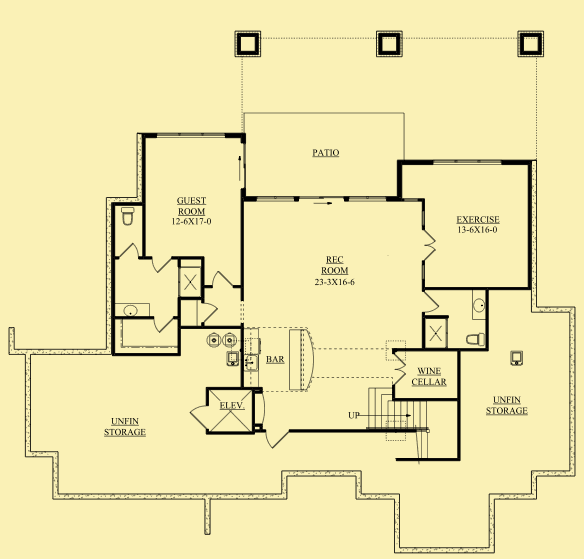door: (419, 227, 439, 269), (185, 403, 215, 431), (388, 352, 407, 388), (265, 426, 294, 449), (200, 297, 221, 328), (150, 250, 174, 277), (152, 313, 178, 337), (207, 269, 238, 289), (419, 291, 441, 317), (119, 239, 144, 261)
kitchen bar: (283, 323, 320, 396)
large sink: (458, 330, 487, 352), (116, 206, 141, 230)
small sink: (110, 300, 152, 321), (467, 288, 489, 322)
stairs: (347, 387, 439, 458)
windows: (254, 191, 389, 208), (429, 155, 507, 172), (151, 127, 225, 143)
